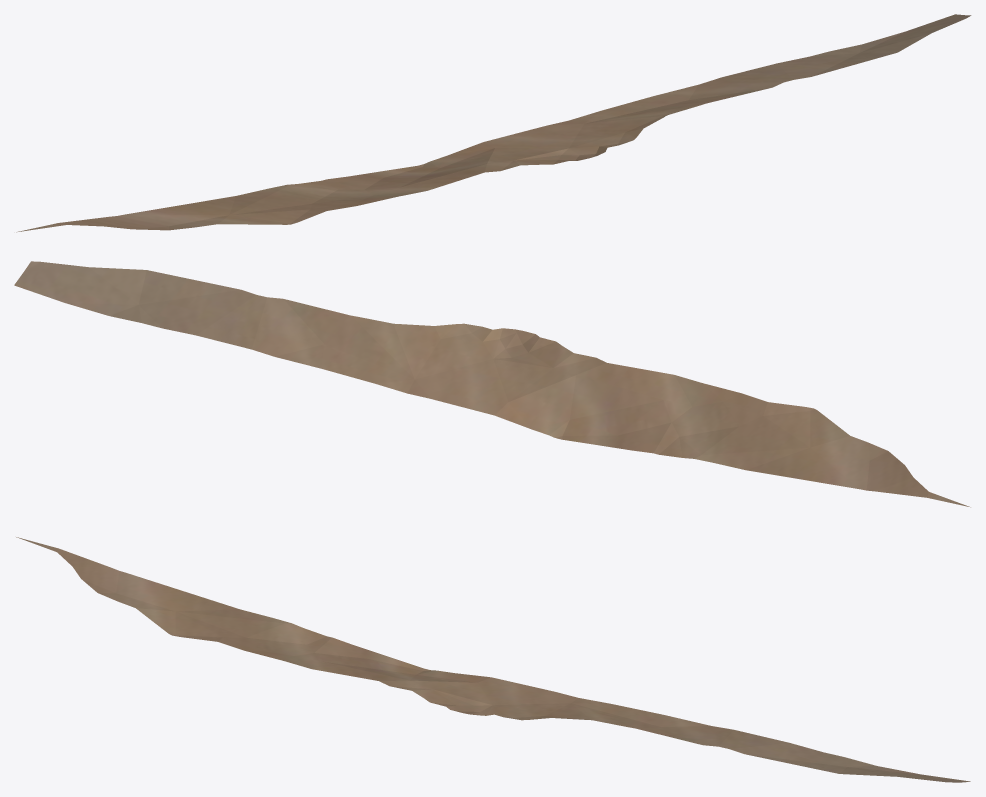
The picture shows the model from 3 angles, top to bottom: view 1: azimuth 30°, elevation 25°; view 2: azimuth 150°, elevation 25°; view 3: azimuth 330°, elevation 25°; orthographic projection.
Bounding box in the file's own units: 0.8673 × 0.0278 × 0.1081.
Materials: 1 (1 with a texture image).
